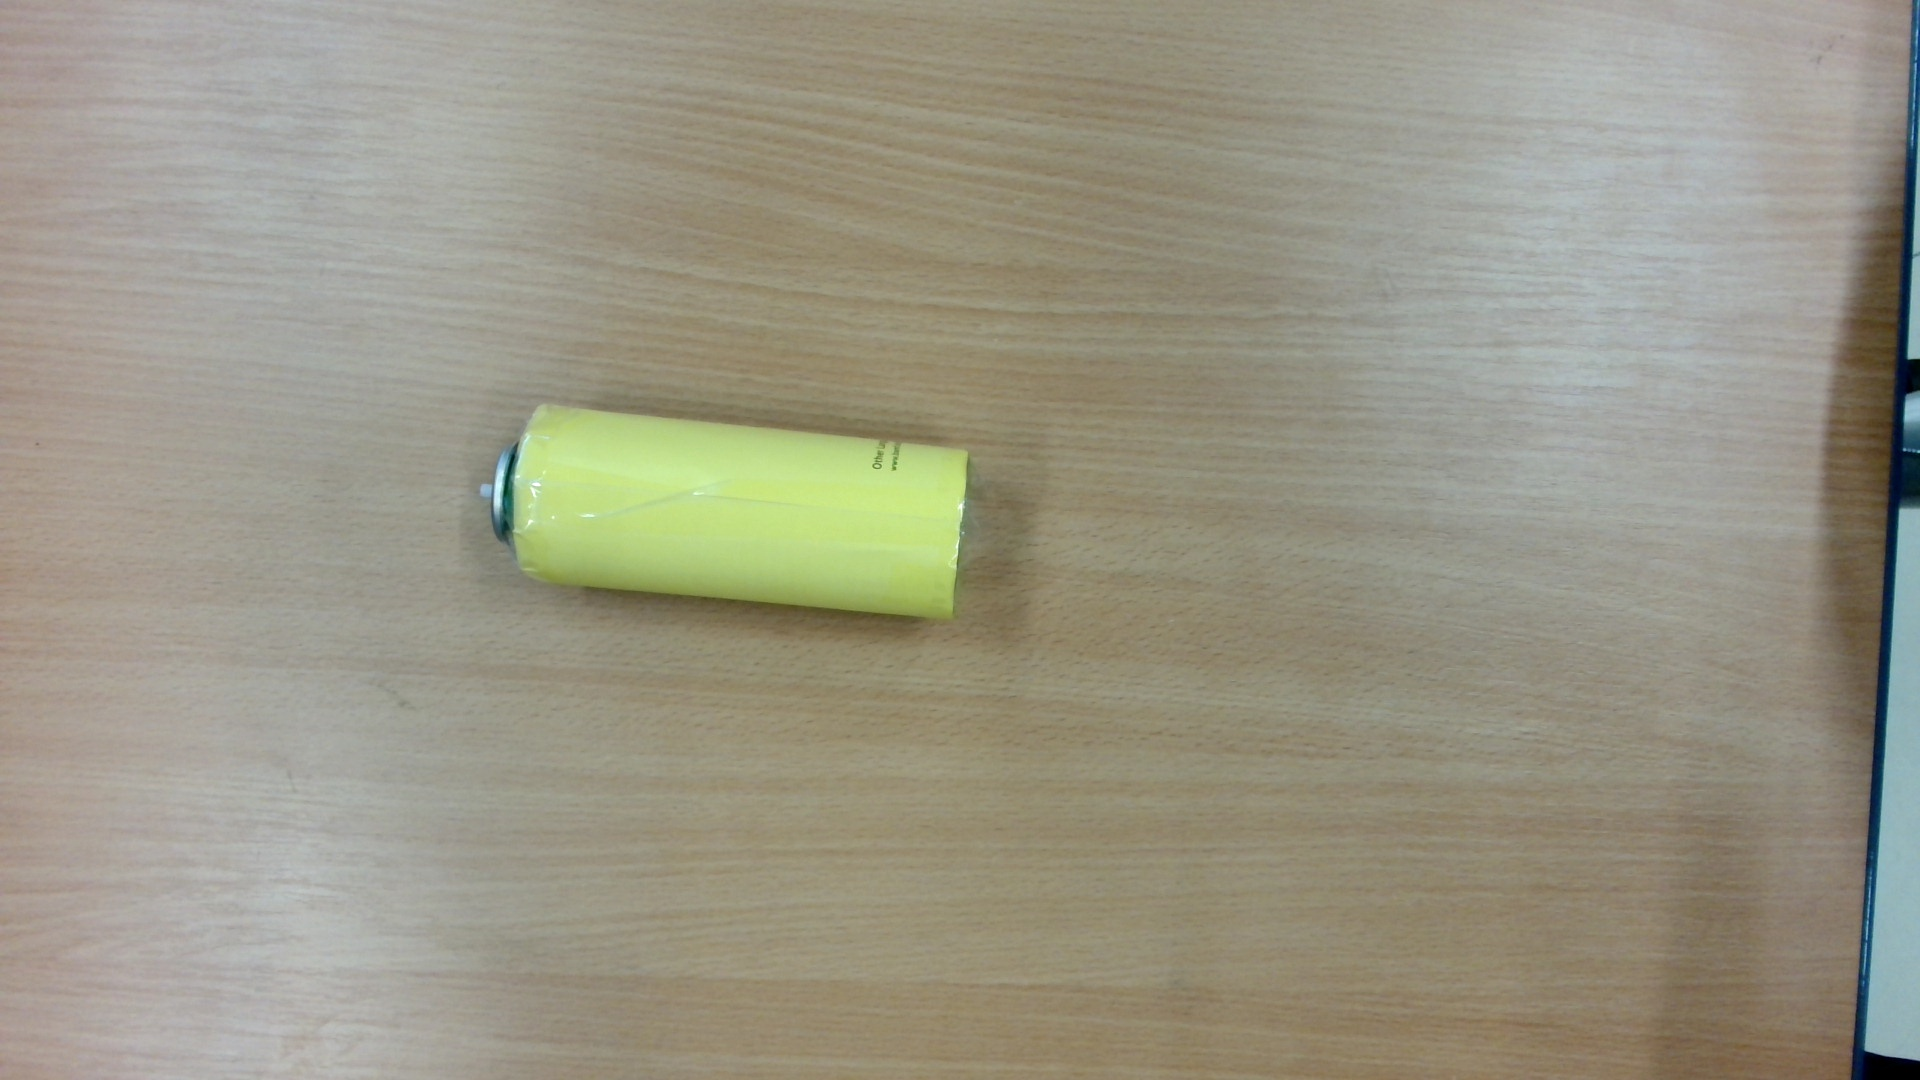Cylinder: (462, 393, 986, 644)
